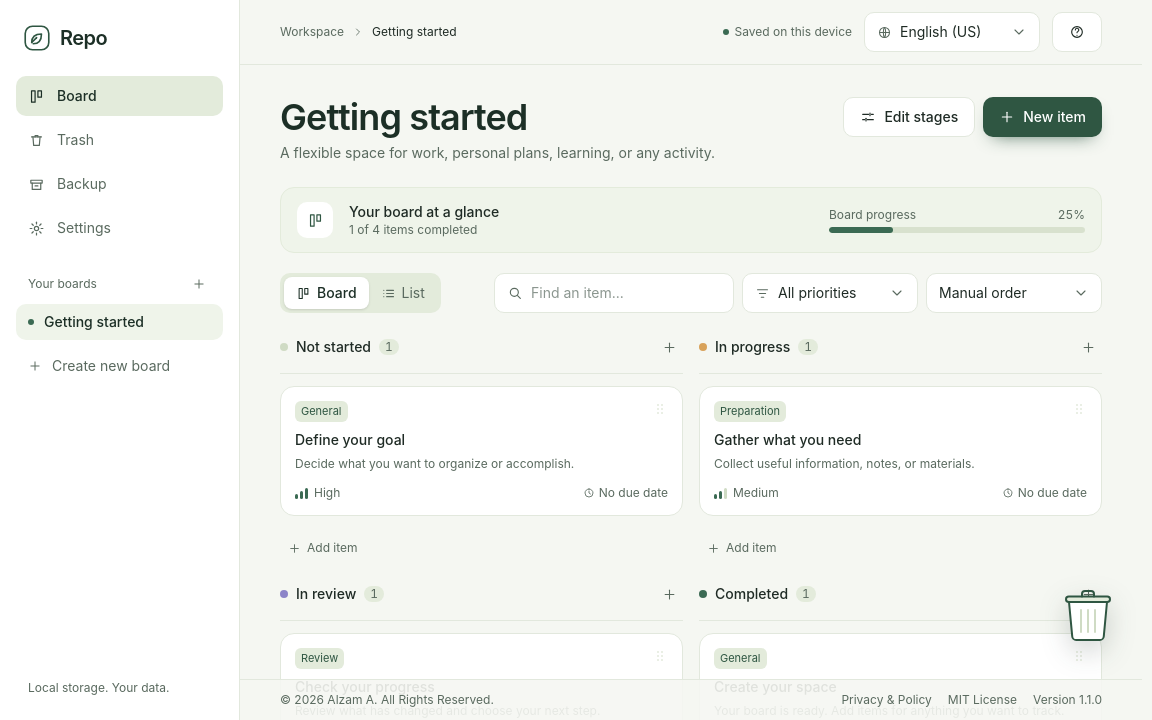
Scenario: note copy button › is hidden while the note is empty, then copies the note and shows Copied
Expected: the heading "Getting started" is shown, [280,95,527,139]
Click the button "New item" at (1043, 117), box [983,97,1102,137]
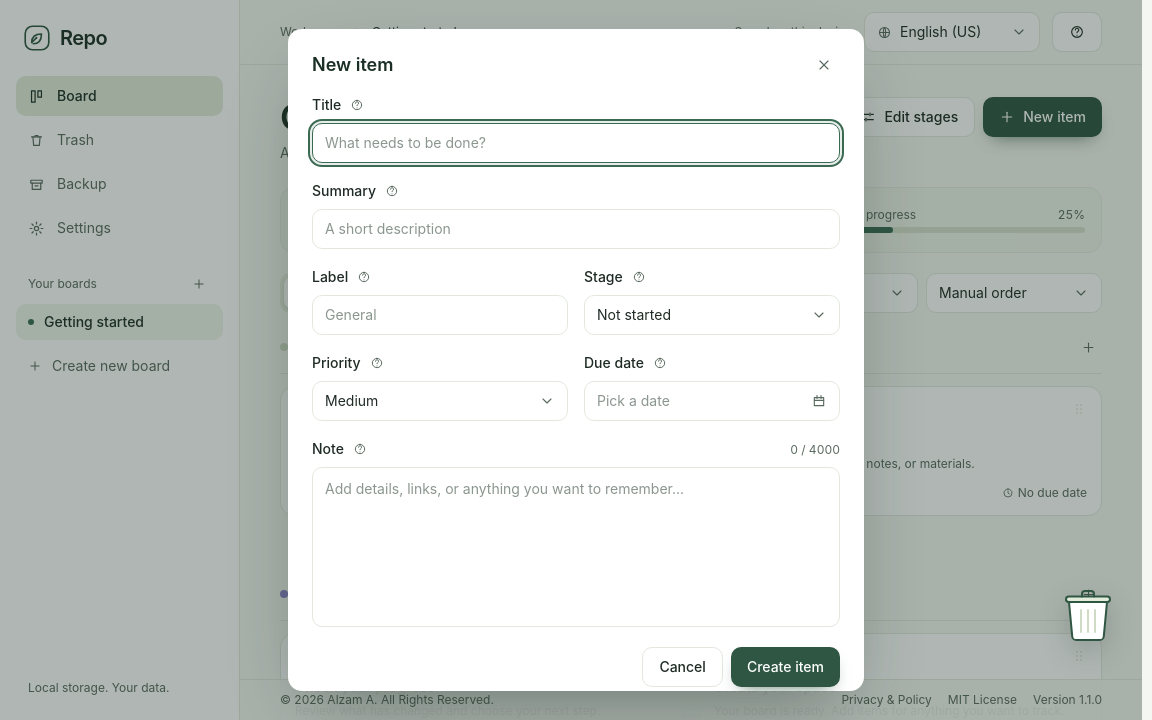
Now the field labelled "Title" is shown, box [312,123,840,163]
Type "Call the venue before Friday." into the text box labelled "Note" at (576, 547), box [312,467,840,627]
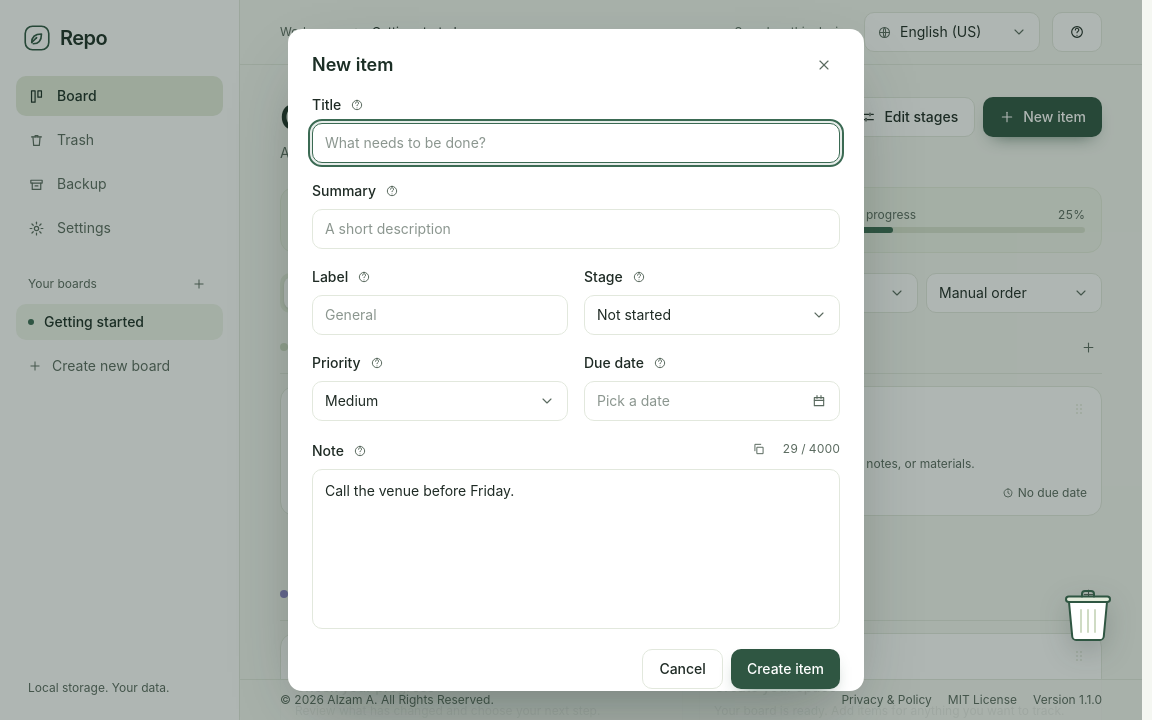
Click the button named "Copy note" at (758, 449), box [746,437,770,461]
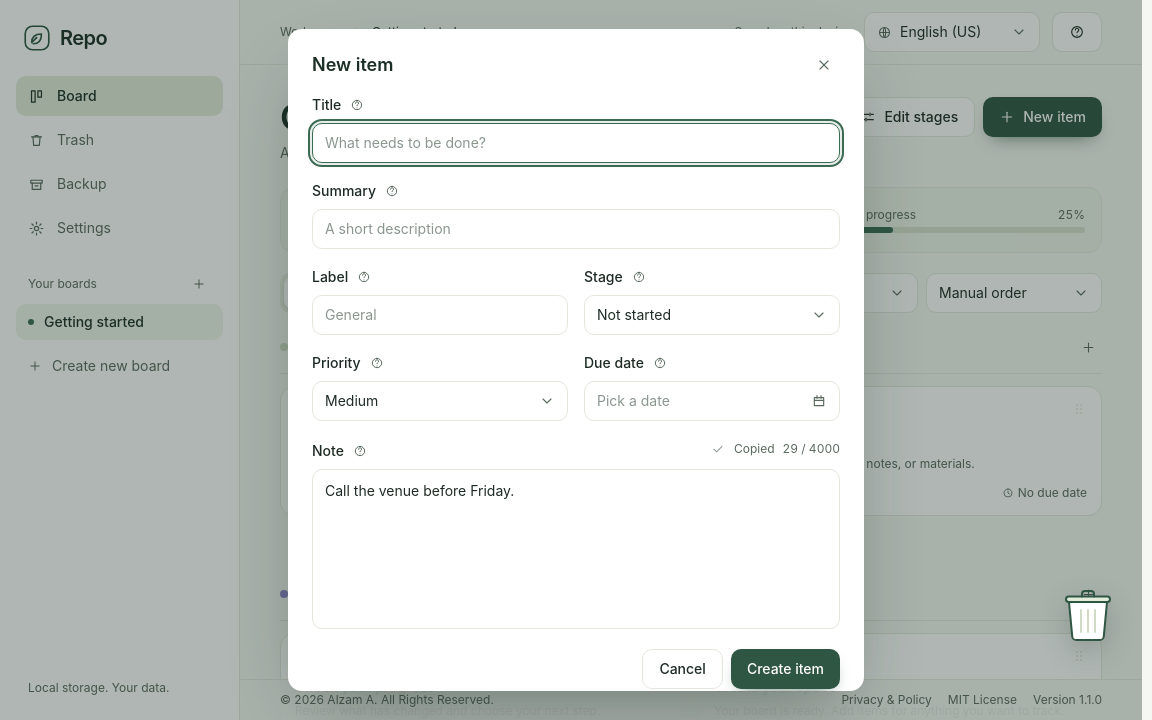
Now the button named "Copy note" is enabled, box [706,437,730,461]
Now the message reads "Copied", box [734,441,775,456]
